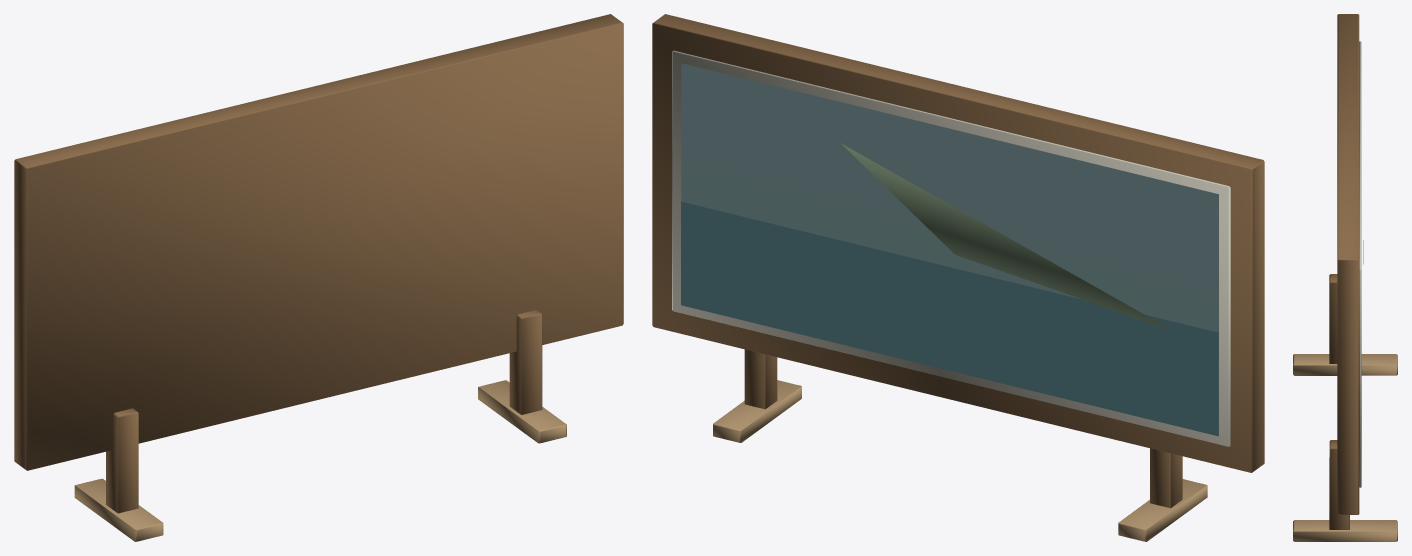
The model's file is mural_stage1_low.glb.
3 views of the same model, side by side, from view 1: azimuth 30°, elevation 25°; view 2: azimuth 150°, elevation 25°; view 3: azimuth 270°, elevation 25° (orthographic). The views are drawn at different scales.
Bounding box in the file's own units: 4 × 2.4 × 0.72.
